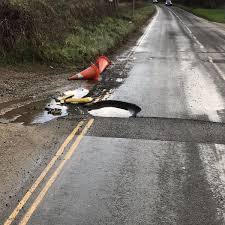pothole: (2, 87, 84, 120), (93, 58, 134, 95), (86, 98, 143, 121)
